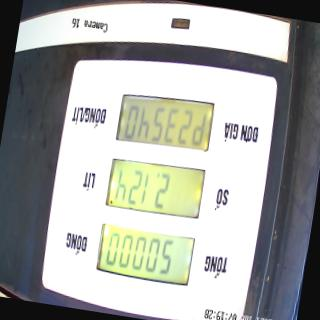screen: (92, 84, 219, 292)
